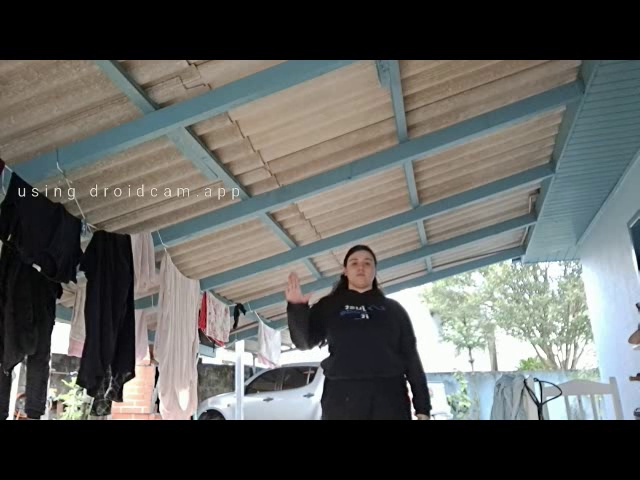MULHER: (333, 232, 407, 300)
